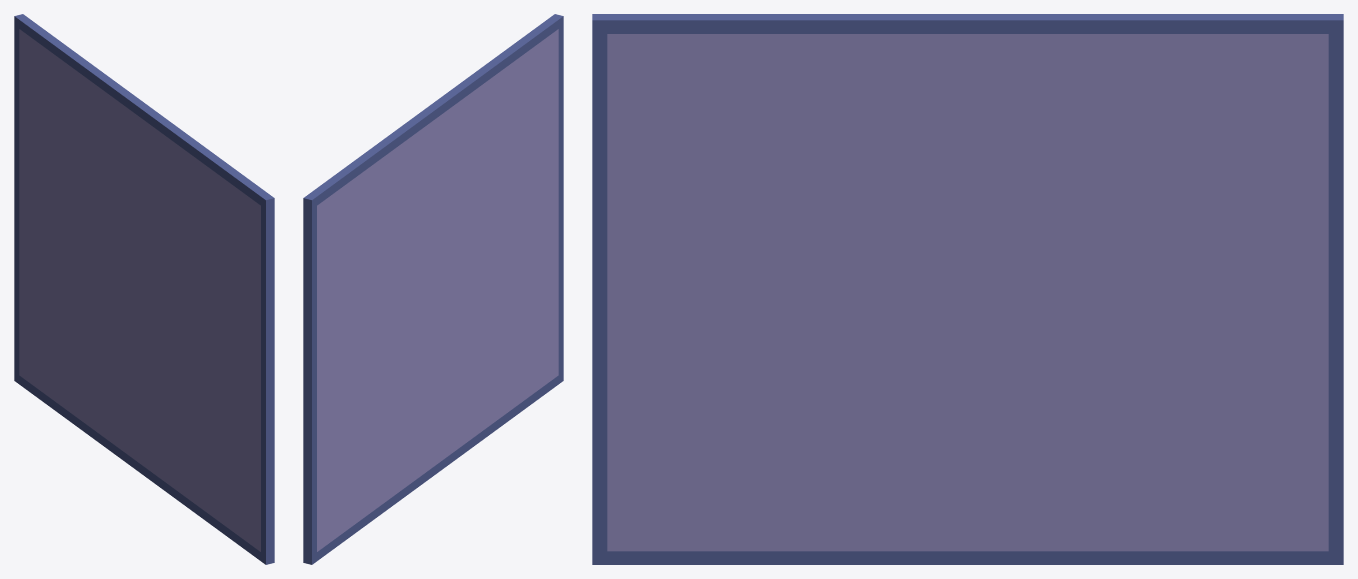
The model's file is SchoolPack-6-window.obj.
3 views of the same model, side by side, from view 1: azimuth 30°, elevation 25°; view 2: azimuth 150°, elevation 25°; view 3: azimuth 270°, elevation 25° (orthographic). The views are drawn at different scales.
Visible parts, largest first — view 1: window; view 2: window; view 3: window.
Boxes of the visible parts, x1=… form: window: x1=14, y1=14, x2=274, y2=564; window: x1=303, y1=14, x2=563, y2=564; window: x1=592, y1=14, x2=1343, y2=564.
Bounding box in the file's own units: 0.1 × 4 × 5.
1 material, 1 textured.
